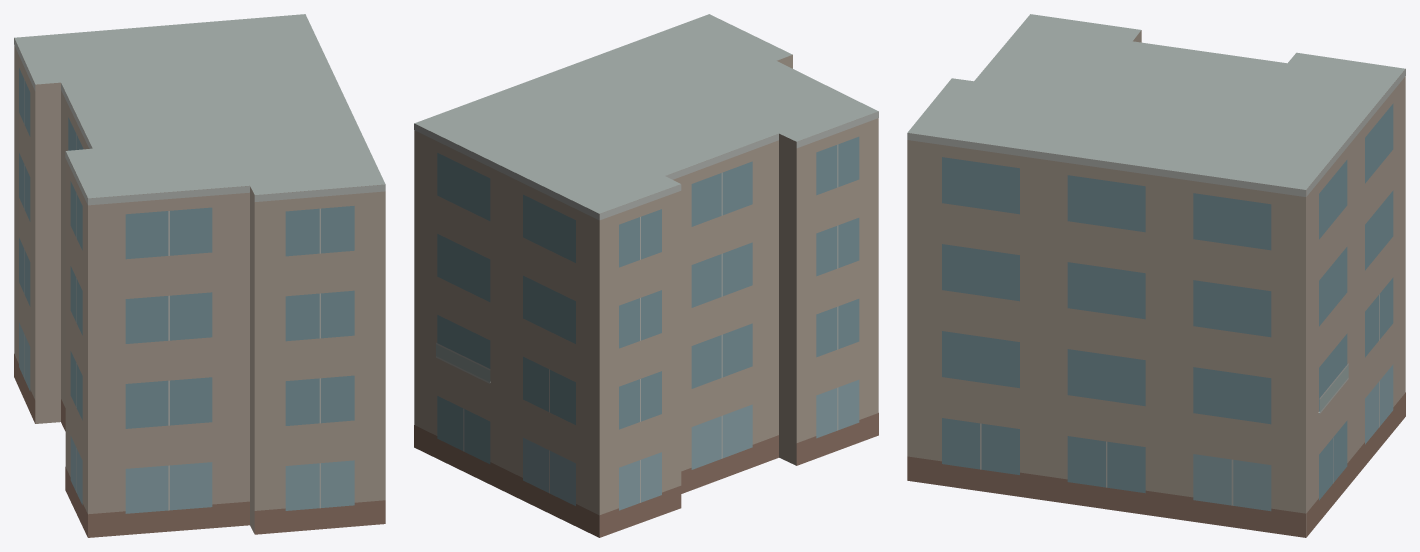
File: survey-upis-33042772.glb
3 views of the same model, side by side, from view 1: azimuth 30°, elevation 25°; view 2: azimuth 150°, elevation 25°; view 3: azimuth 270°, elevation 25° (orthographic). The views are drawn at different scales.
Parts seen in each view (by area): view 1: survey-upis-33042772.tmp; view 2: survey-upis-33042772.tmp; view 3: survey-upis-33042772.tmp.
Part boxes in pixels (<box>): survey-upis-33042772.tmp: <box>14,14,385,537</box>; survey-upis-33042772.tmp: <box>414,14,878,537</box>; survey-upis-33042772.tmp: <box>907,14,1405,537</box>.
Size of the model in its own units: 12.87 by 11.85 by 15.4.
